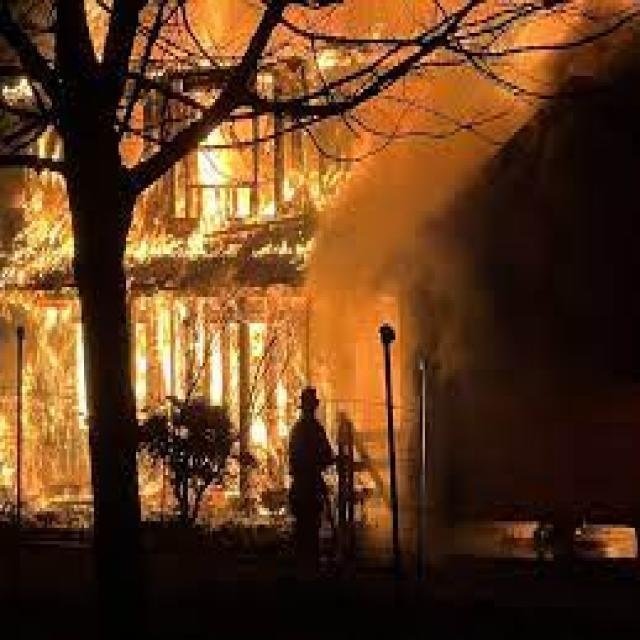Fire: (143, 194, 309, 400), (0, 170, 90, 520)
Smoke: (383, 0, 640, 567)
